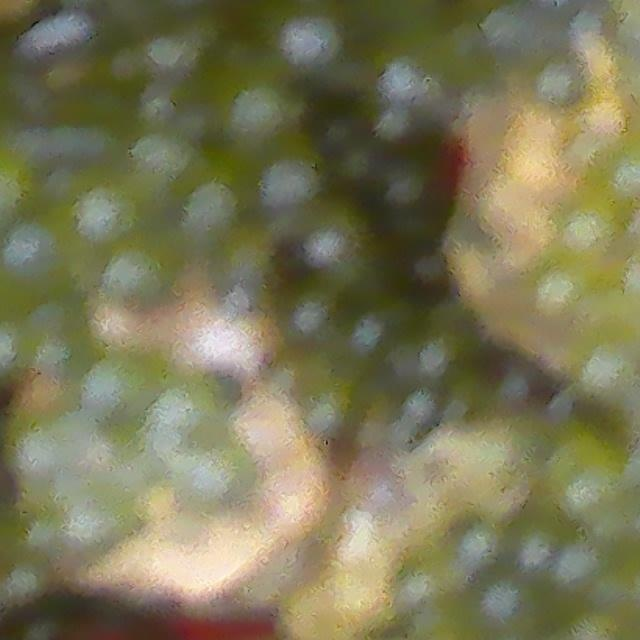SeaGrape: (539, 424, 636, 524), (99, 227, 189, 319), (0, 215, 80, 299), (537, 261, 614, 332), (554, 193, 622, 266)
